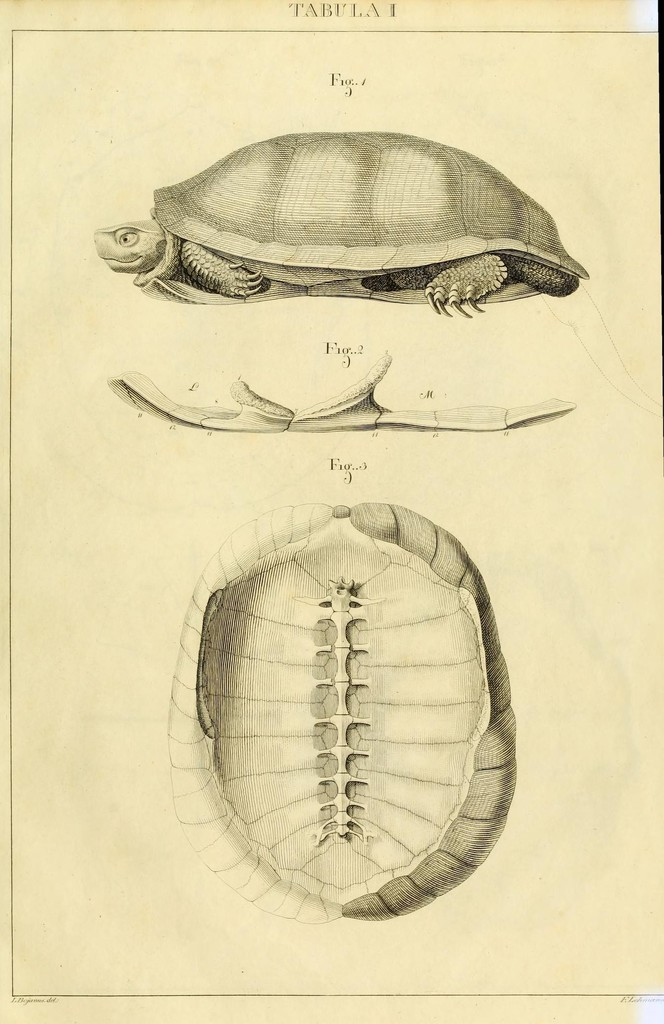Sea turtles: (88, 124, 589, 317)
